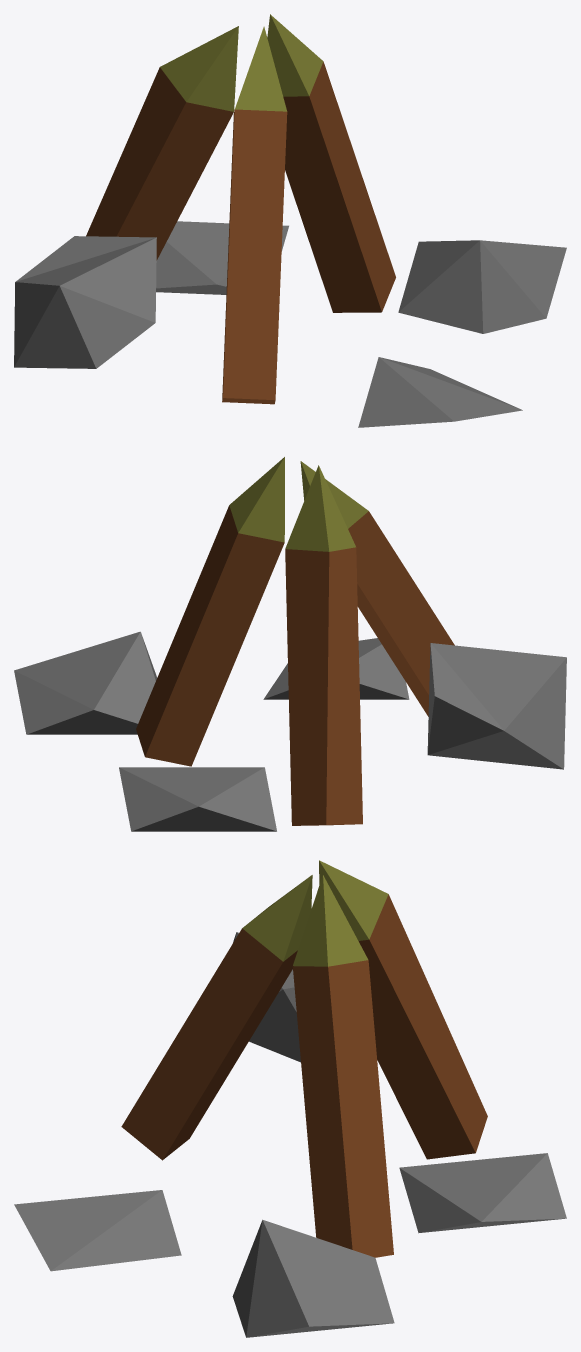
The model's file is firepit.fbx.
3 views of the same model, one above another, from view 1: azimuth 30°, elevation 25°; view 2: azimuth 150°, elevation 25°; view 3: azimuth 270°, elevation 25° (orthographic). The views are drawn at different scales.
Visible parts, largest first — view 1: Firepit; view 2: Firepit; view 3: Firepit.
Boxes of the visible parts, <box> form: Firepit: <box>14,14,566,427</box>; Firepit: <box>14,457,566,831</box>; Firepit: <box>14,860,566,1337</box>.
Bounding box in the file's own units: 126 × 71.84 × 105.
